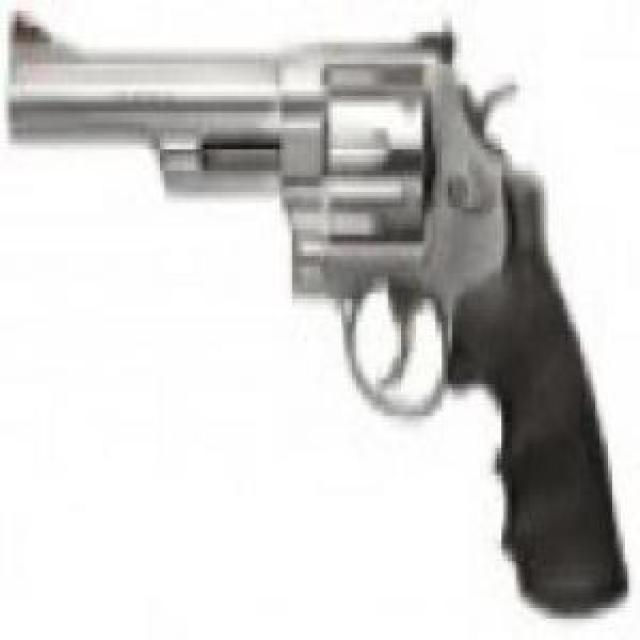pistol: (9, 17, 628, 614)
